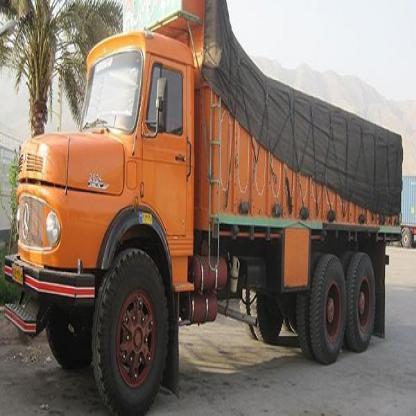Truck: (12, 0, 399, 388)
